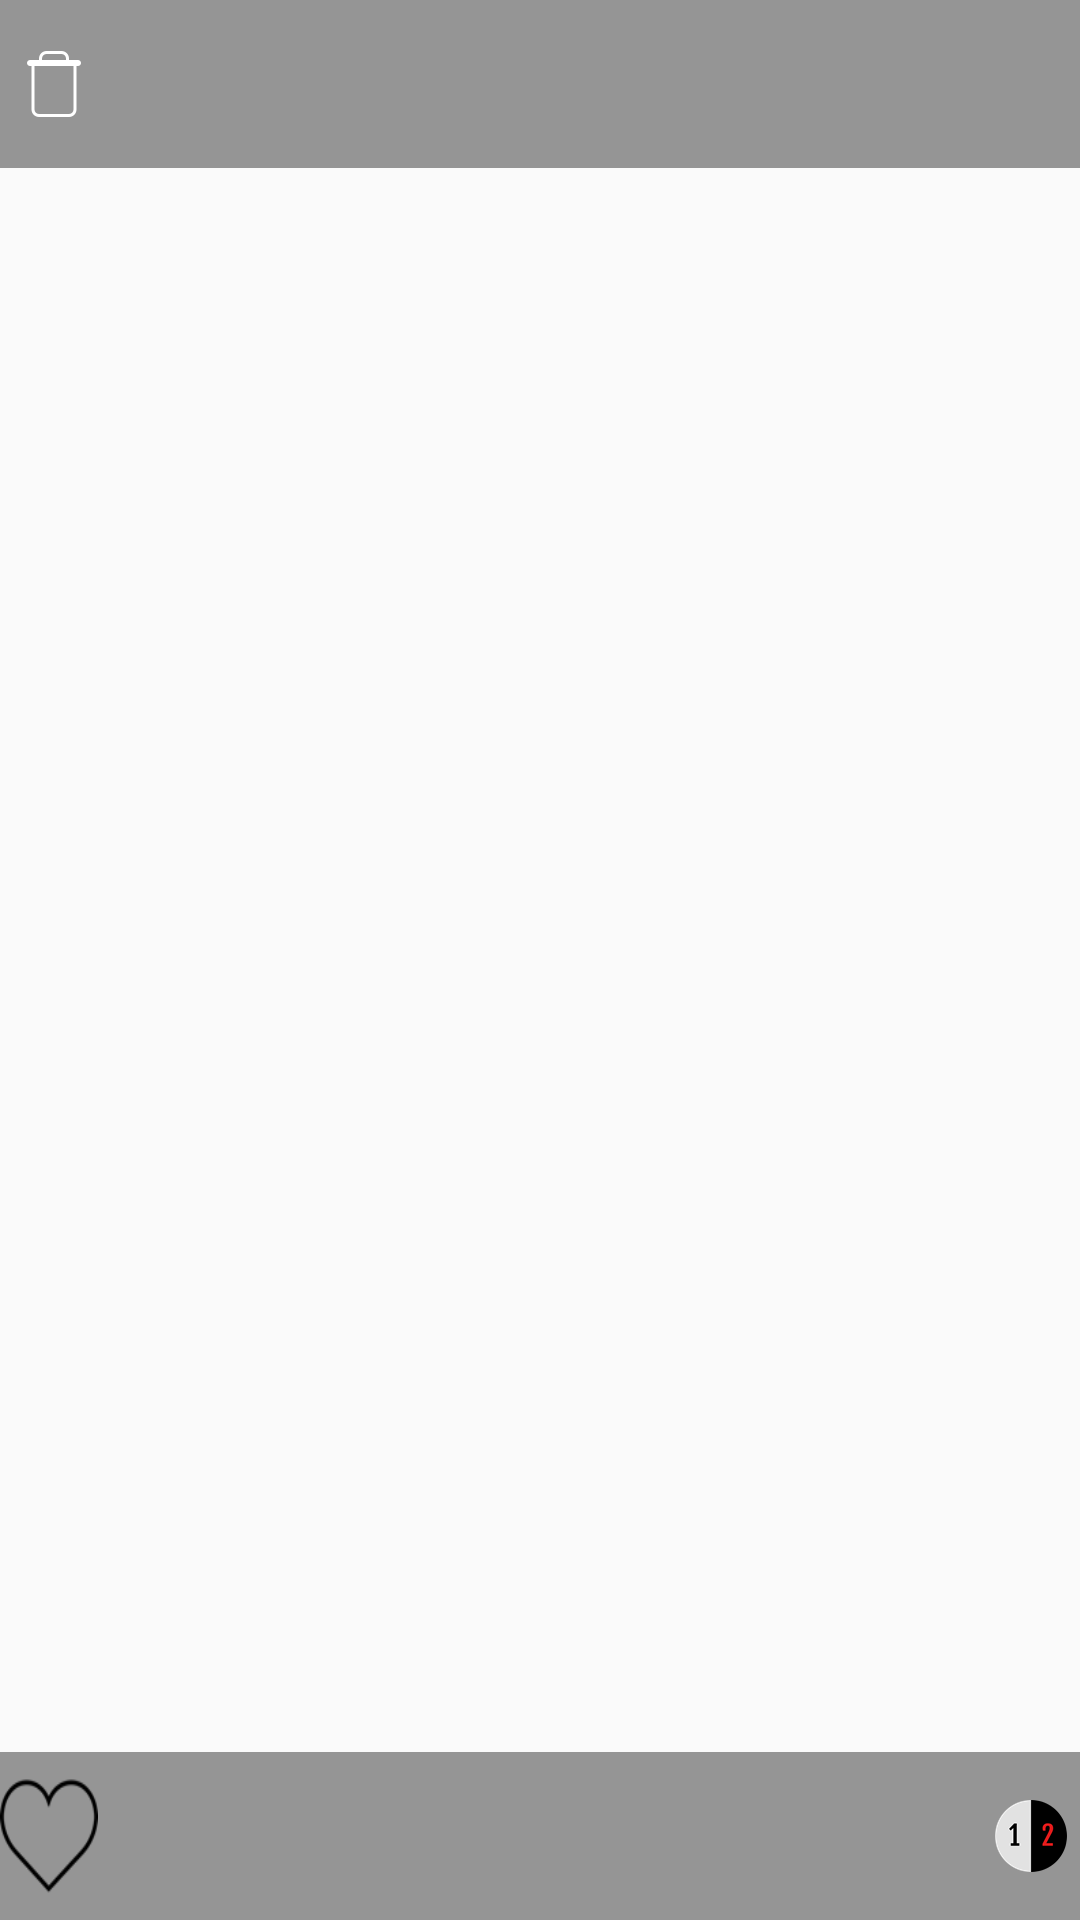

Screen size 1080w x 1920h. Icon name, then its center in pixels as [x,y]:
compare: [1031,1836]
favorite toggle: [49,1835]
trash: [54,84]
